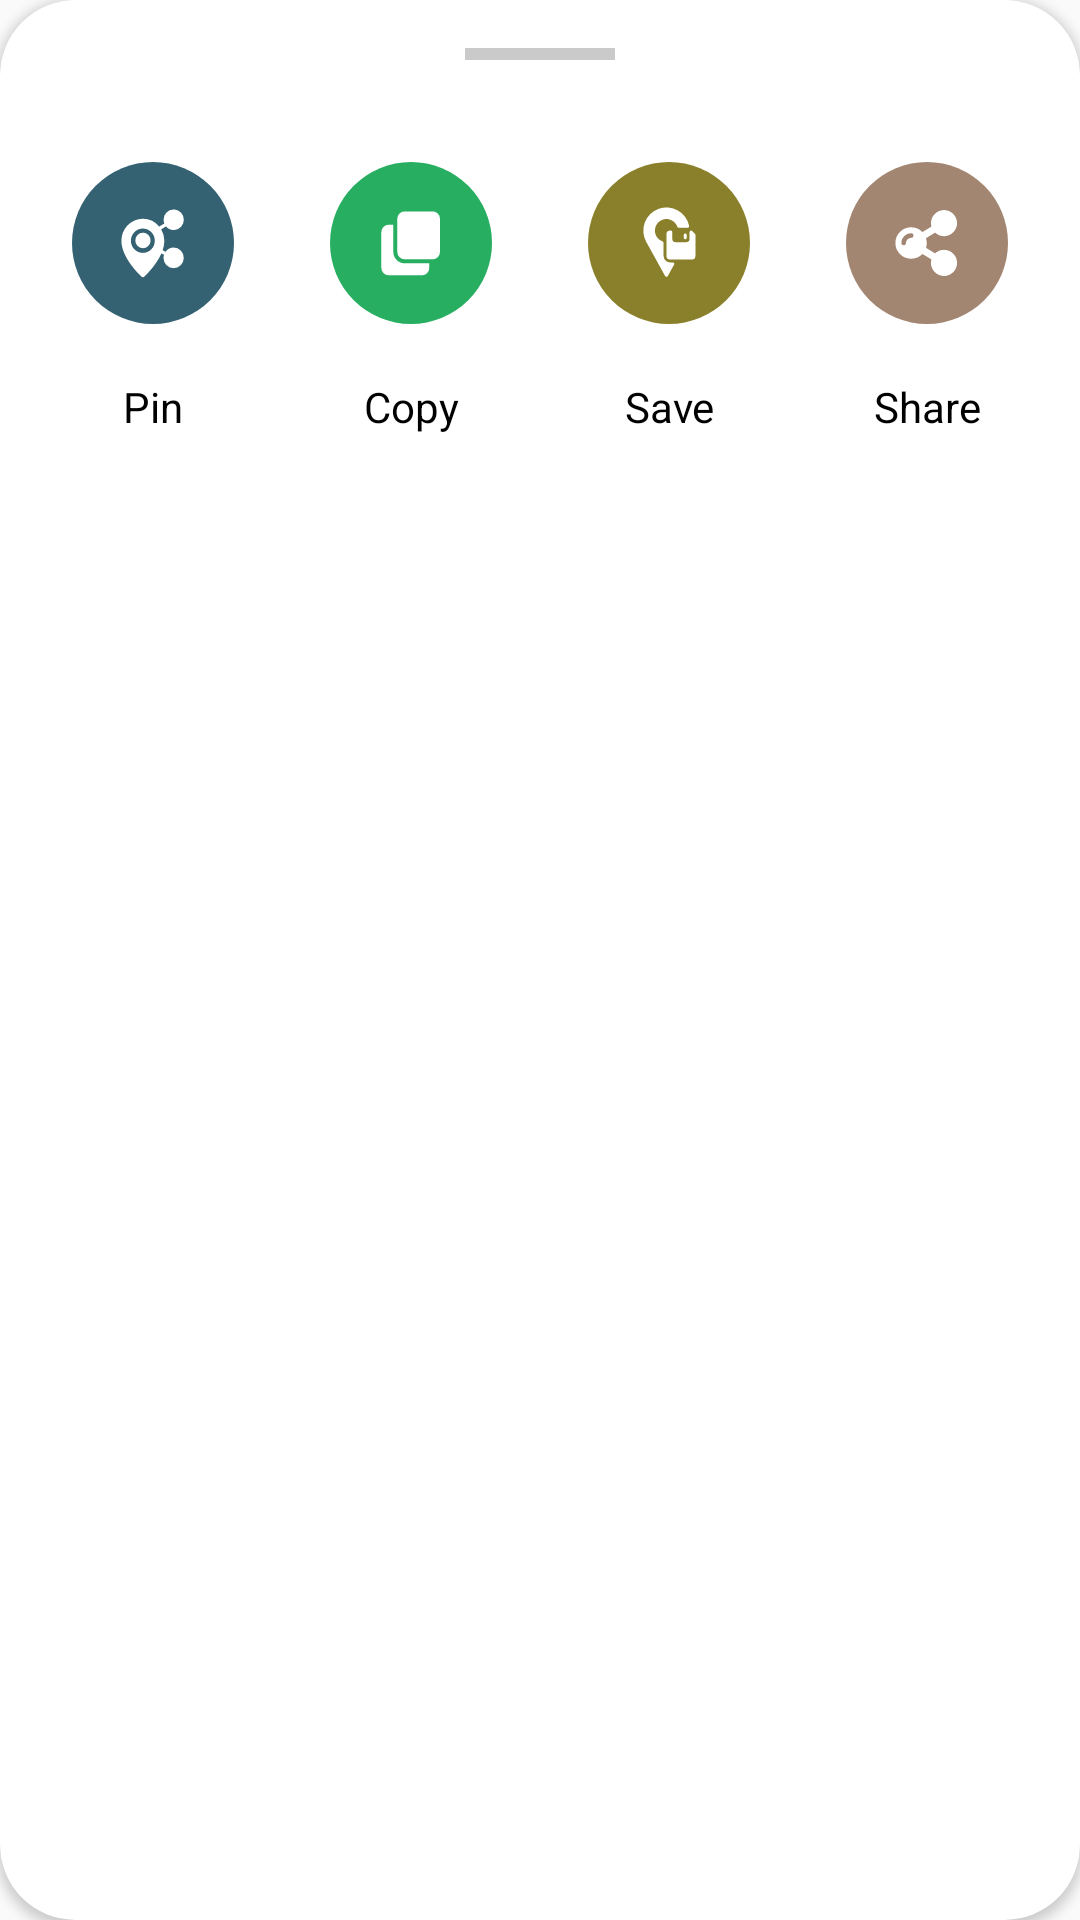

Where icons sit on this 1080px×1920px app screen, as {"left": x1, "top": y1, "right": x2, "bottom": y2}:
bottomsheet pin: {"left": 72, "top": 162, "right": 234, "bottom": 324}
